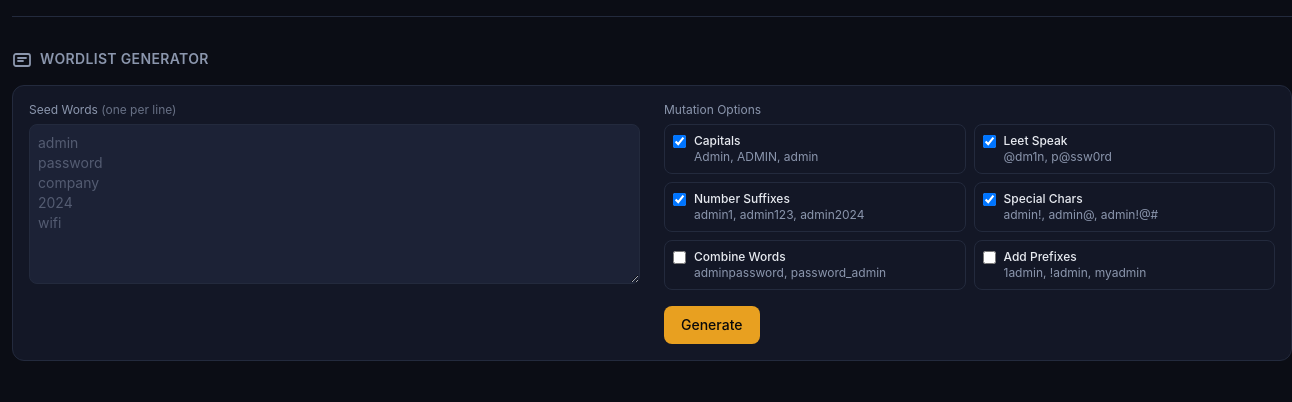
Test: WordlistGeneratorSection › shows an error message when the API reports one
The width and height of the screenshot is (1292, 402).
Type "x" into the text box with placeholder "admin password company 2024 wifi" at (334, 204), box 29,124 -> 640,284
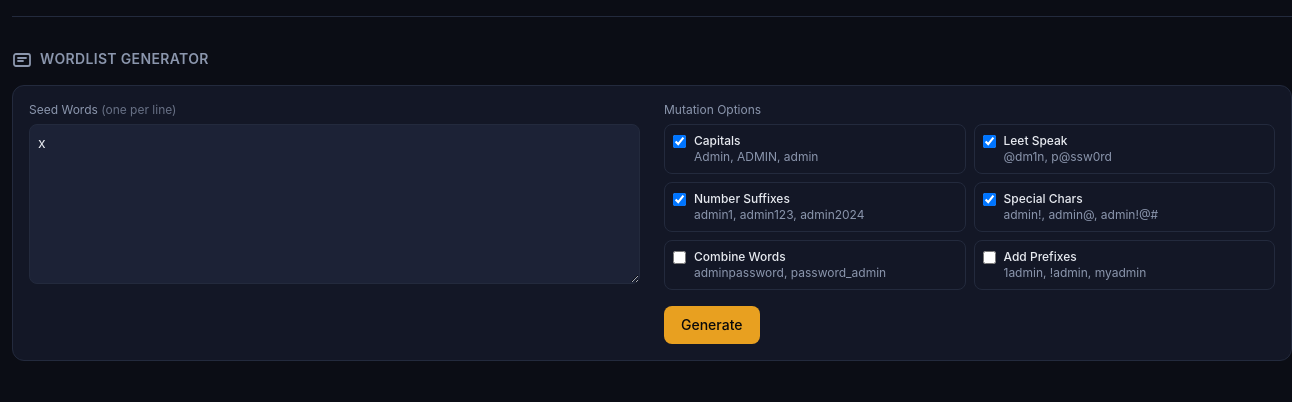
Click the button "Generate" at (712, 325), box 664,306 -> 760,344
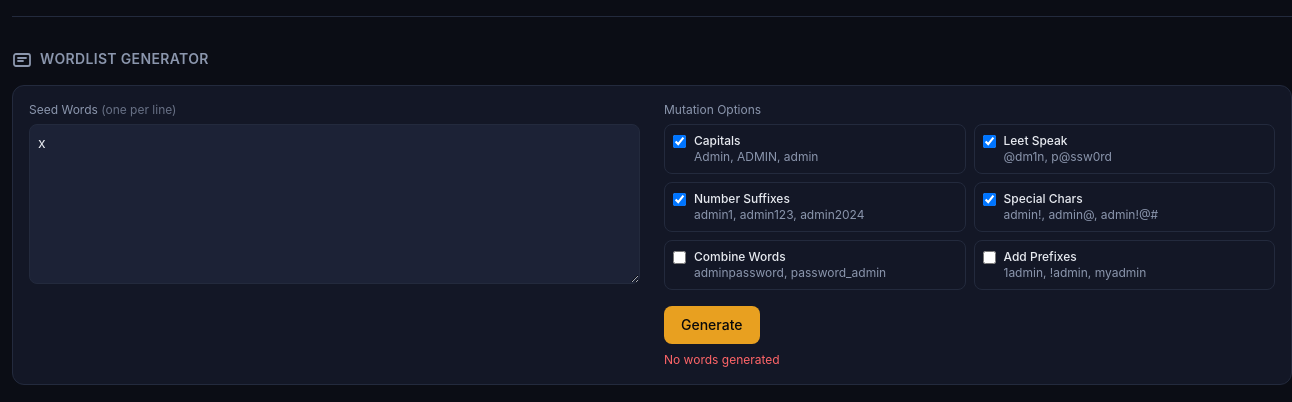
Check: the text "No words generated" is shown, box 664,352 -> 780,367
